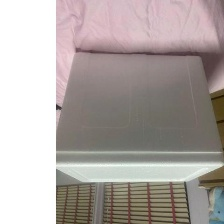foam_box: (55, 46, 223, 187)
